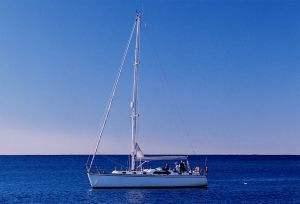fanchuan: (84, 1, 215, 191)
